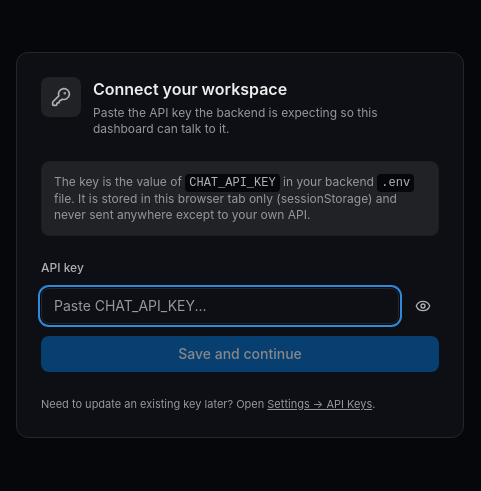
Test: SetupPage › restores the previous key when validation fails
Type "sk-bad-key" into the password field labelled "API key" at (220, 306), box [41,288,399,324]
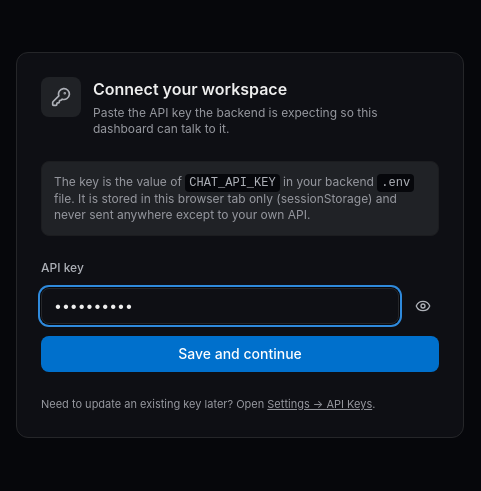
Click the button "Save and continue" at (240, 354), box [41,336,439,372]
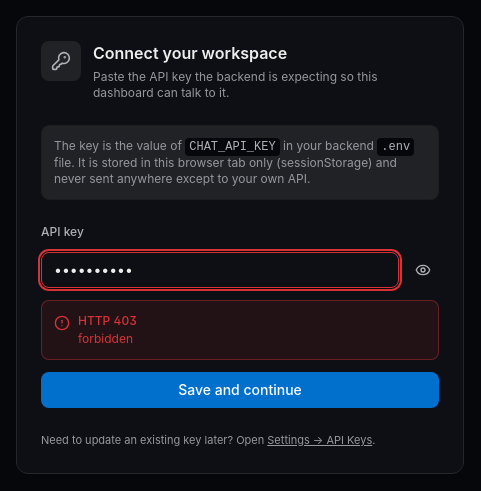
Check: the message "HTTP 403 forbidden" is shown, box [41,300,439,360]
